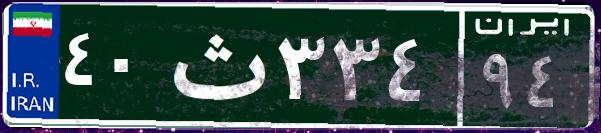0: (110, 28, 158, 105)
3: (273, 28, 330, 110), (330, 28, 385, 110)
4: (385, 28, 445, 110), (57, 26, 110, 107), (525, 38, 570, 115)
9: (475, 38, 525, 113)
ث: (158, 15, 273, 115)
